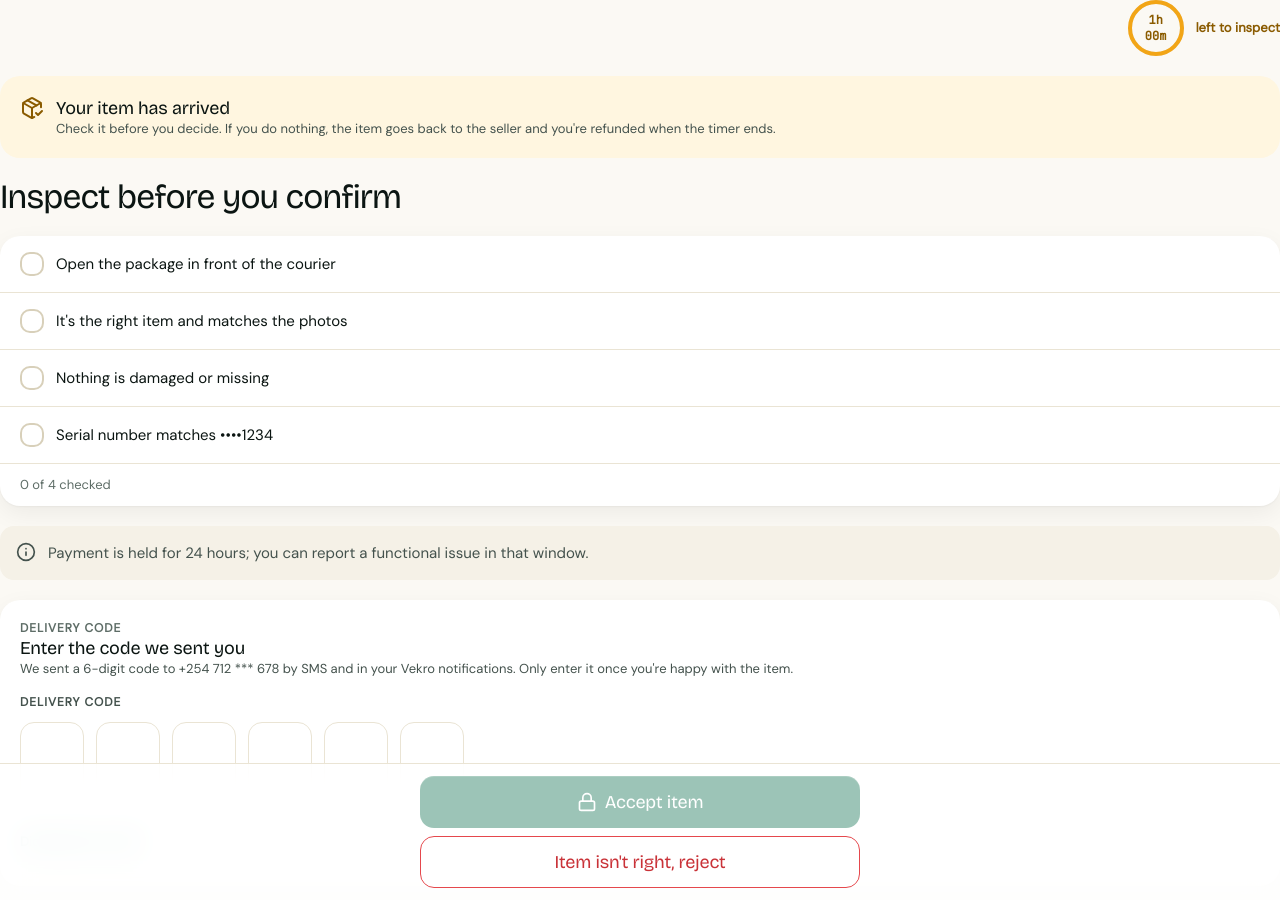
it: B4 arrival and inspection › accepting with the delivery code › enables Accept at six digits, confirms the consequence, sends the code and shows the 24-hour hold
Expected: the button "Accept item" is disabled, [420,776,860,828]
Click the field named "digit 1" at (52,762), box [20,722,84,802]
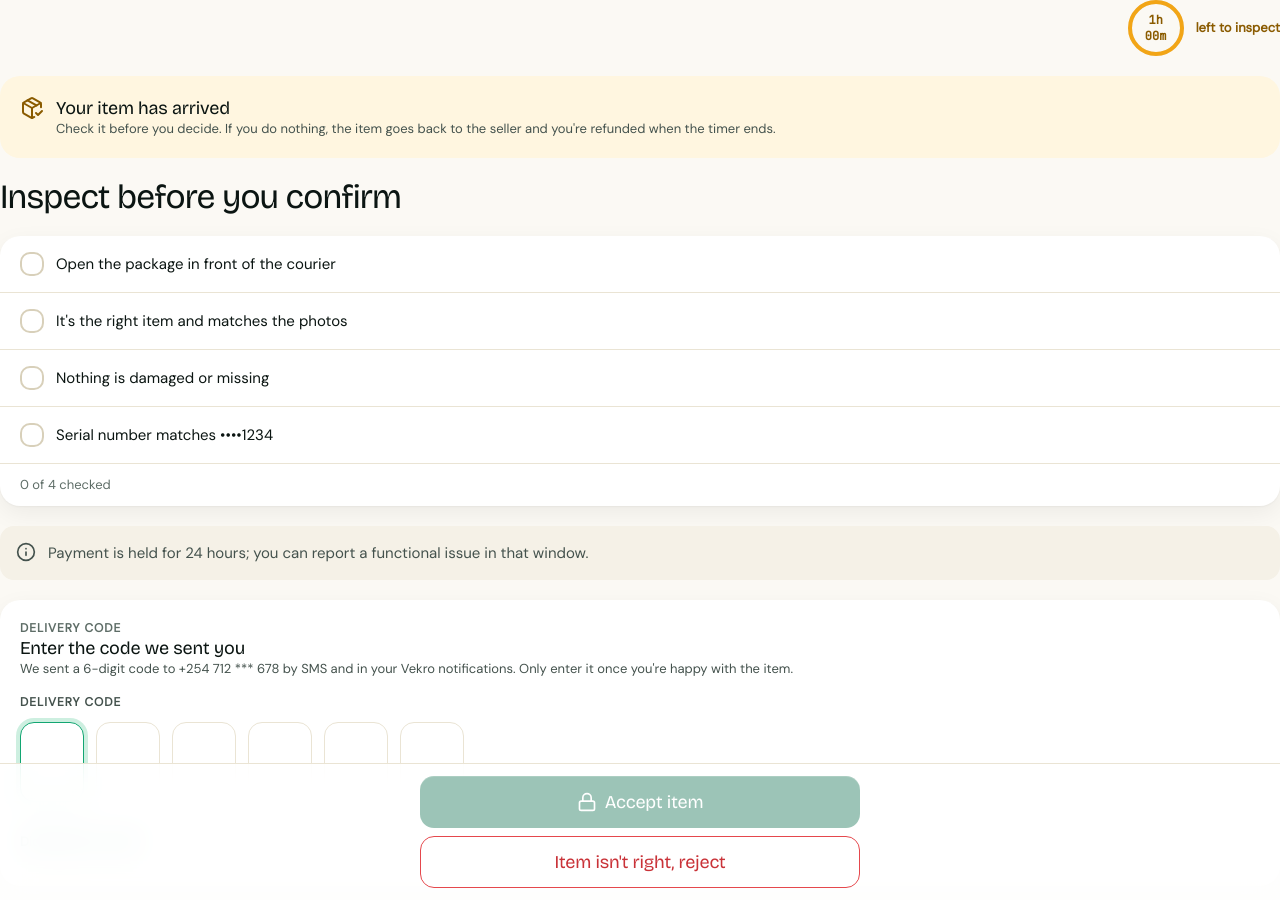
Type keys "482913"
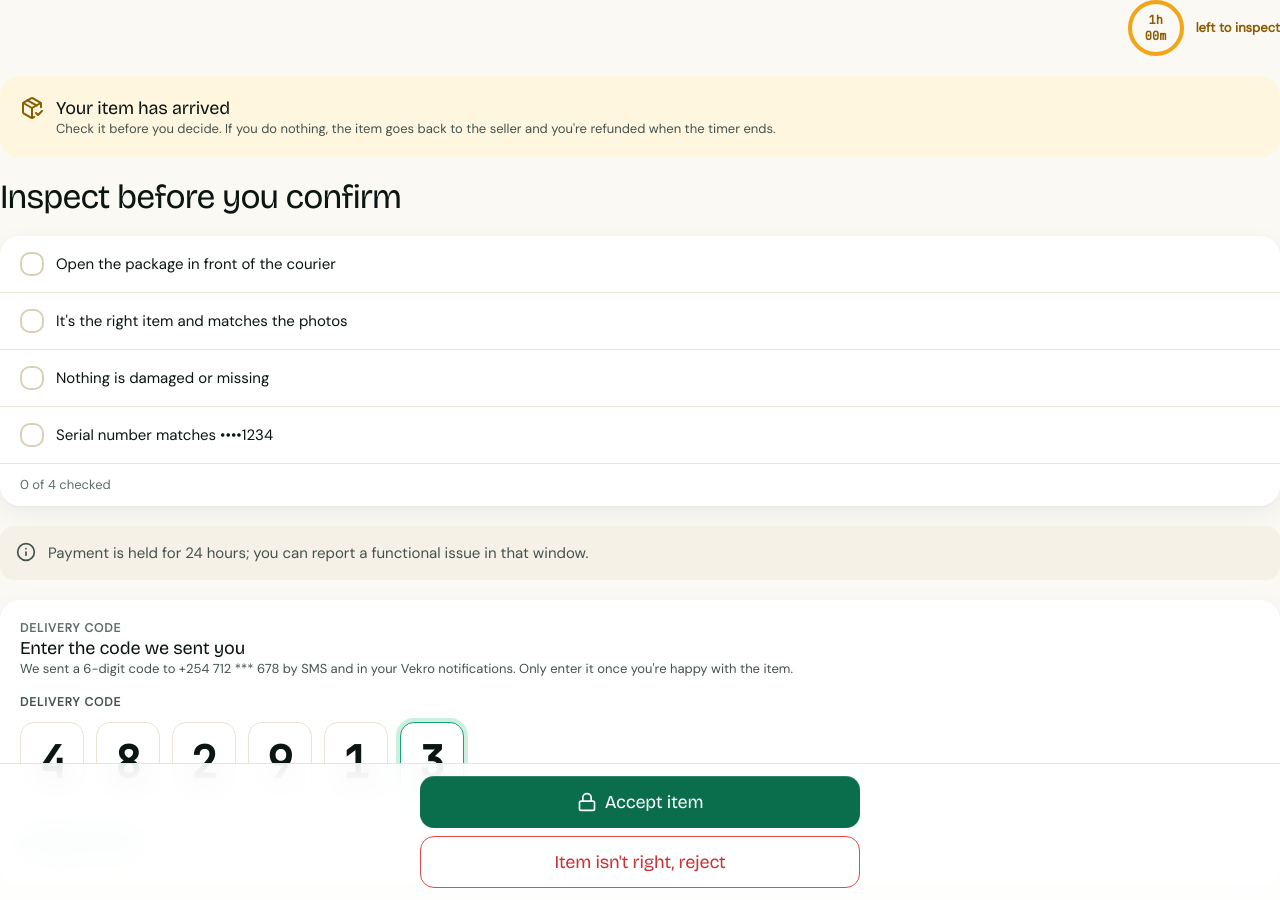
Expected: the button "Accept item" is enabled
Click the button "Accept item" at (640,802), box [420,776,860,828]
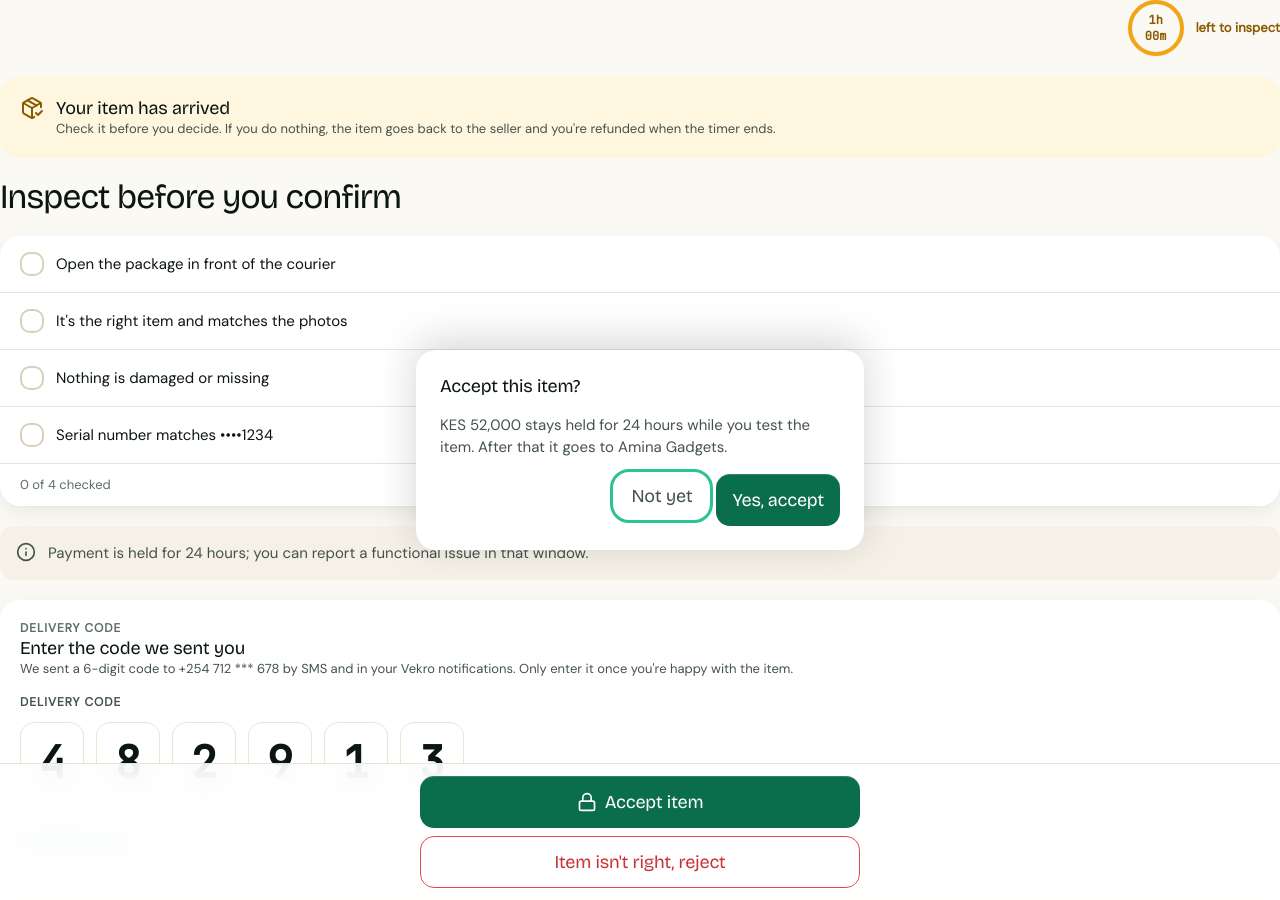
Expected: the dialog "Accept this item?" shows "KES 52,000 stays held for 24 hours while you test the item. After that it goes to Amina Gadgets.", [440,415,810,457]
Click the button "Yes, accept" at (778,500), box [716,474,840,526]
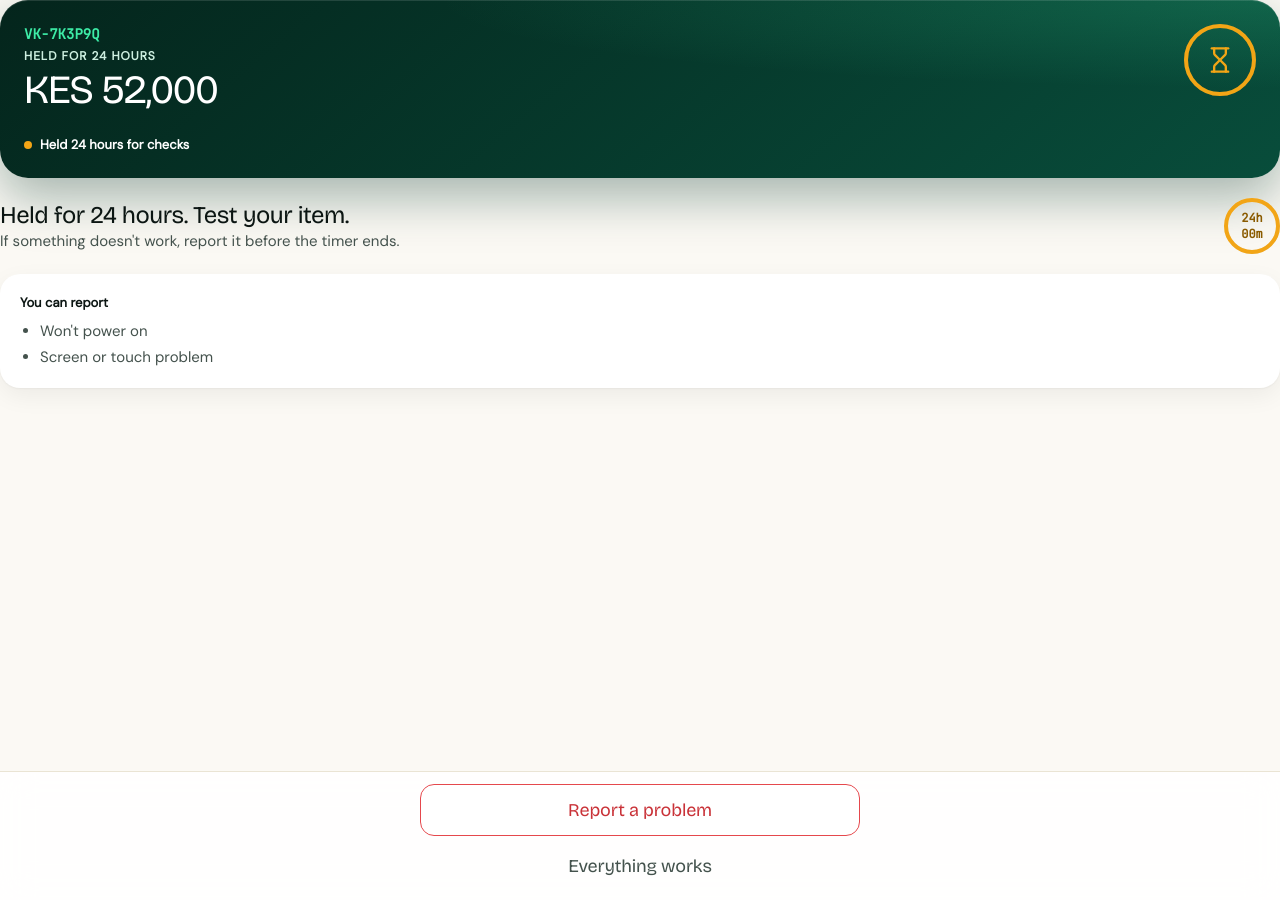
Expected: the heading "Held for 24 hours. Test your item." is shown, [0,201,349,229]
Expected: the list item "Won't power on" is shown, [40,321,148,341]
Expected: the button "Report a problem" is shown, [420,784,860,836]
